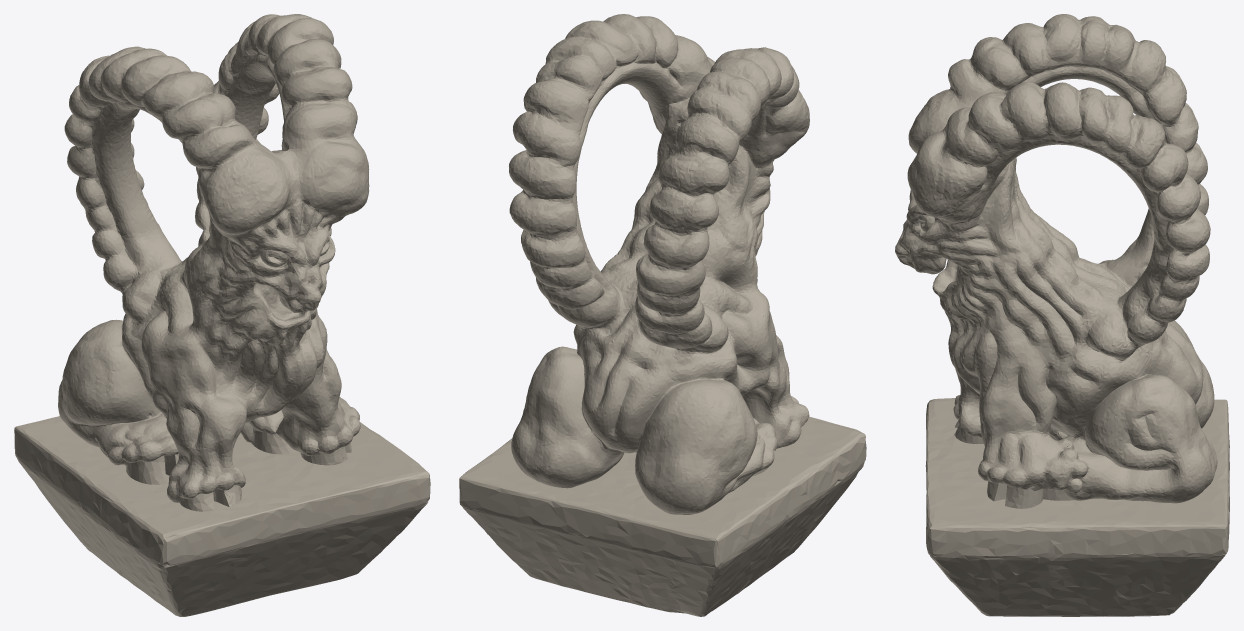
File: Ibix_01_LOD2.glb
3 views of the same model, side by side, from view 1: azimuth 30°, elevation 25°; view 2: azimuth 150°, elevation 25°; view 3: azimuth 270°, elevation 25° (orthographic). The views are drawn at different scales.
Parts seen in each view (by area): view 1: Platform; view 2: Platform; view 3: Platform.
Boxes of the visible parts, x1=… form: Platform: x1=14, y1=14, x2=430, y2=616; Platform: x1=459, y1=14, x2=866, y2=616; Platform: x1=895, y1=14, x2=1229, y2=616.
Bounding box in the file's own units: 2.07 × 3.84 × 2.22.
